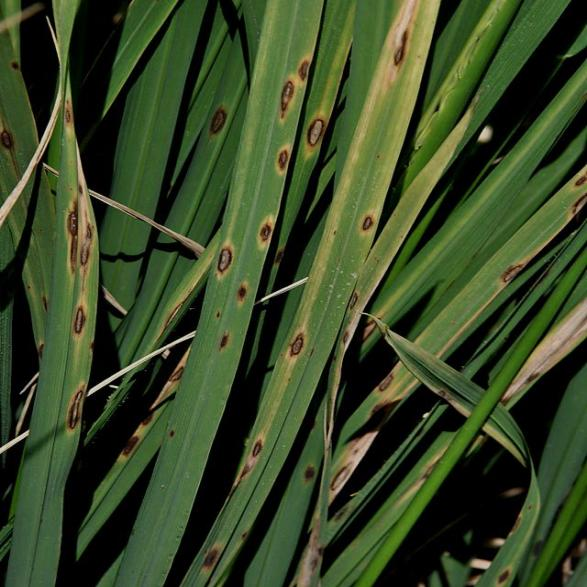Brown_Spot: (60, 203, 100, 270), (53, 376, 91, 440), (382, 19, 413, 74), (199, 237, 238, 280), (60, 300, 95, 339), (561, 167, 586, 220), (270, 72, 296, 120), (295, 114, 331, 148), (197, 537, 231, 572), (281, 324, 312, 360), (496, 256, 531, 287), (252, 210, 277, 253), (285, 48, 316, 82), (504, 504, 532, 537), (206, 98, 230, 136), (51, 92, 76, 128), (112, 432, 150, 455), (270, 139, 294, 175), (296, 458, 326, 483), (0, 125, 24, 156), (329, 458, 353, 488), (487, 562, 523, 582), (355, 206, 378, 235), (242, 432, 271, 455), (372, 371, 398, 391), (209, 330, 233, 350), (3, 56, 26, 73), (161, 424, 176, 441)
